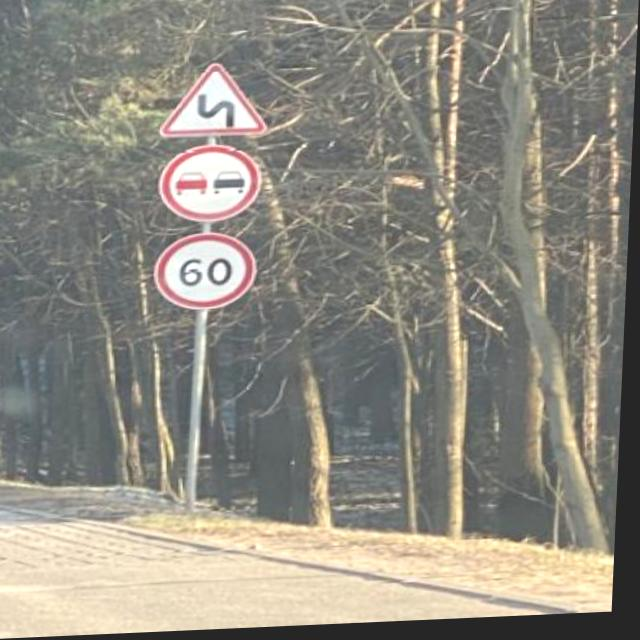limit60: (150, 228, 265, 322)
